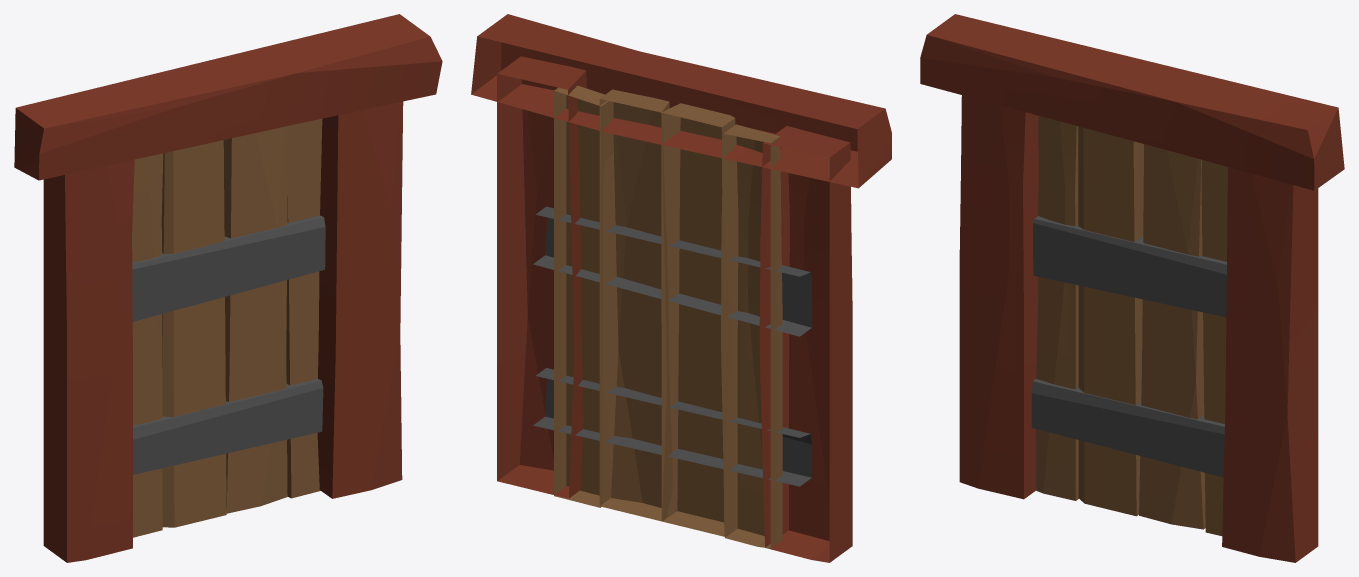
Rendered from House_Gate_B.fbx.
3 views of the same model, side by side, from view 1: azimuth 30°, elevation 25°; view 2: azimuth 150°, elevation 25°; view 3: azimuth 330°, elevation 25° (orthographic).
Parts seen in each view (by area): view 1: House_Gate_B; view 2: House_Gate_B; view 3: House_Gate_B.
Part boxes in pixels (x1,y1,x2,y2): House_Gate_B: [14, 14, 442, 562]; House_Gate_B: [471, 14, 891, 562]; House_Gate_B: [920, 14, 1344, 562].
Size of the model in its own units: 176 by 188 by 25.71.
